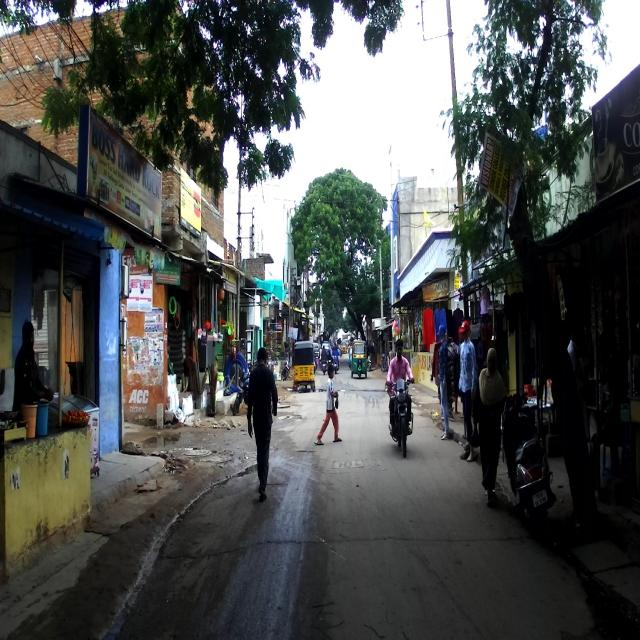motorcycle_Honda: (386, 377, 414, 457)
scooter: (502, 390, 558, 534)
